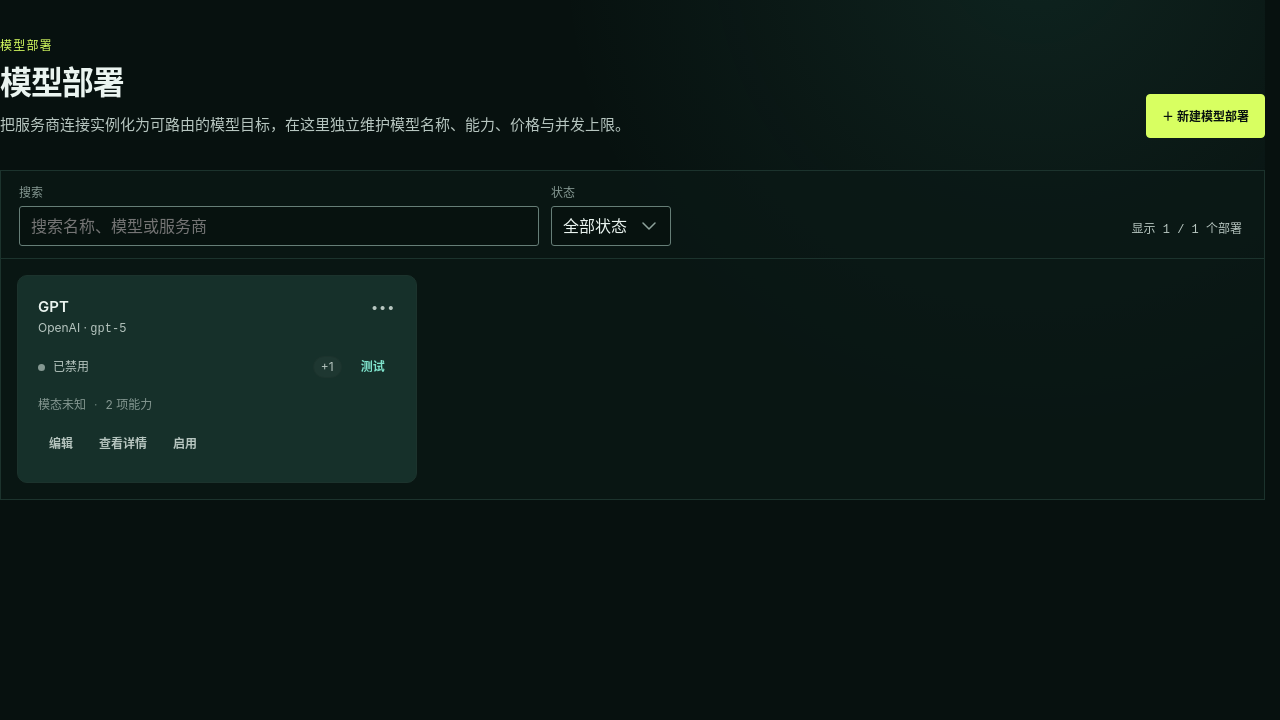
destructive step-up › says why an enable was refused in its own words, and offers the way out
Click the button "启用". click: (185, 444)
box: 162,426 -> 208,462
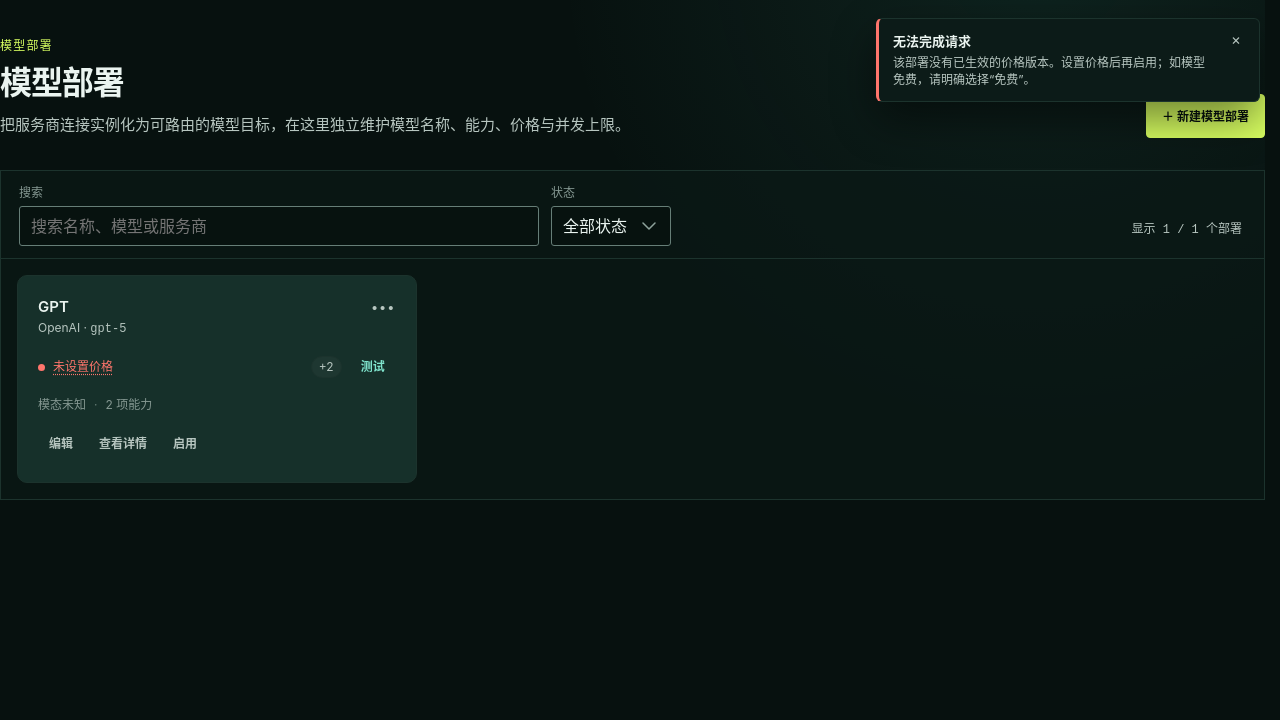
Expected: the text "该部署没有已生效的价格版本。设置价格后再启用；如模型免费，请明确选择“免费”。" is shown, 893,54 -> 1215,89
Click the button "未设置价格". click: (178, 367)
box: 53,358 -> 303,376
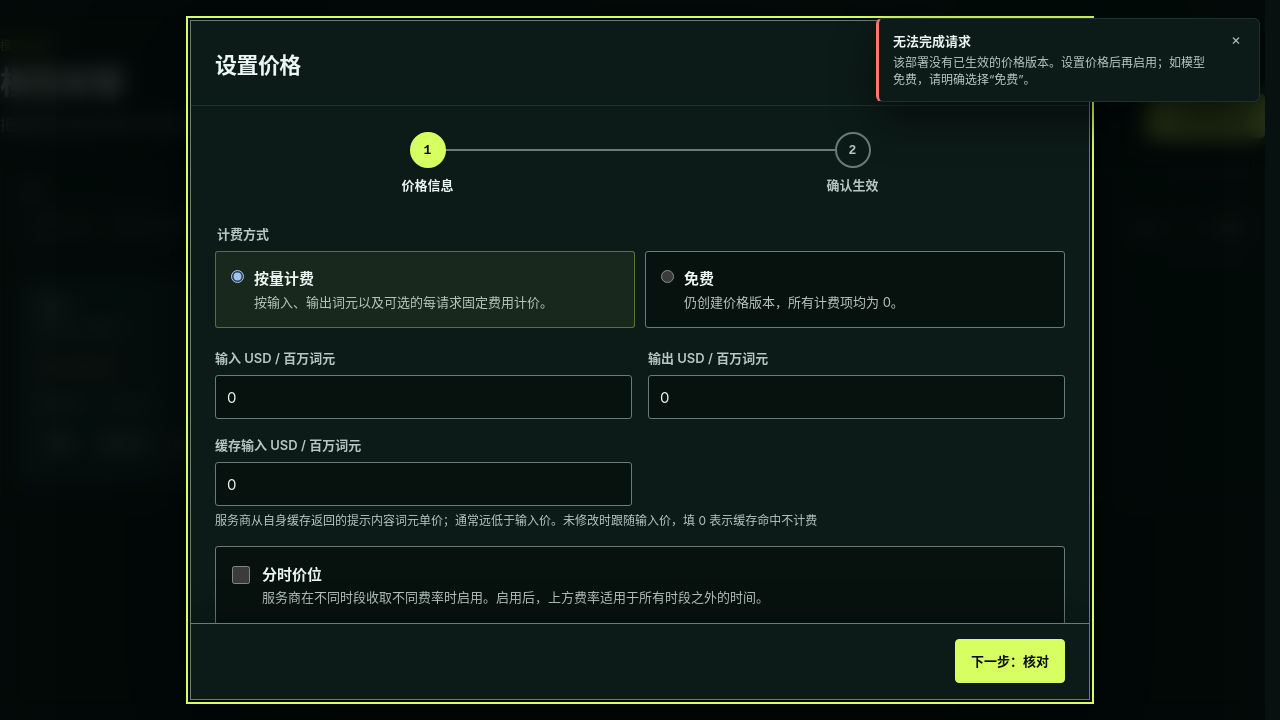
Expected: the dialog "设置价格" is shown
